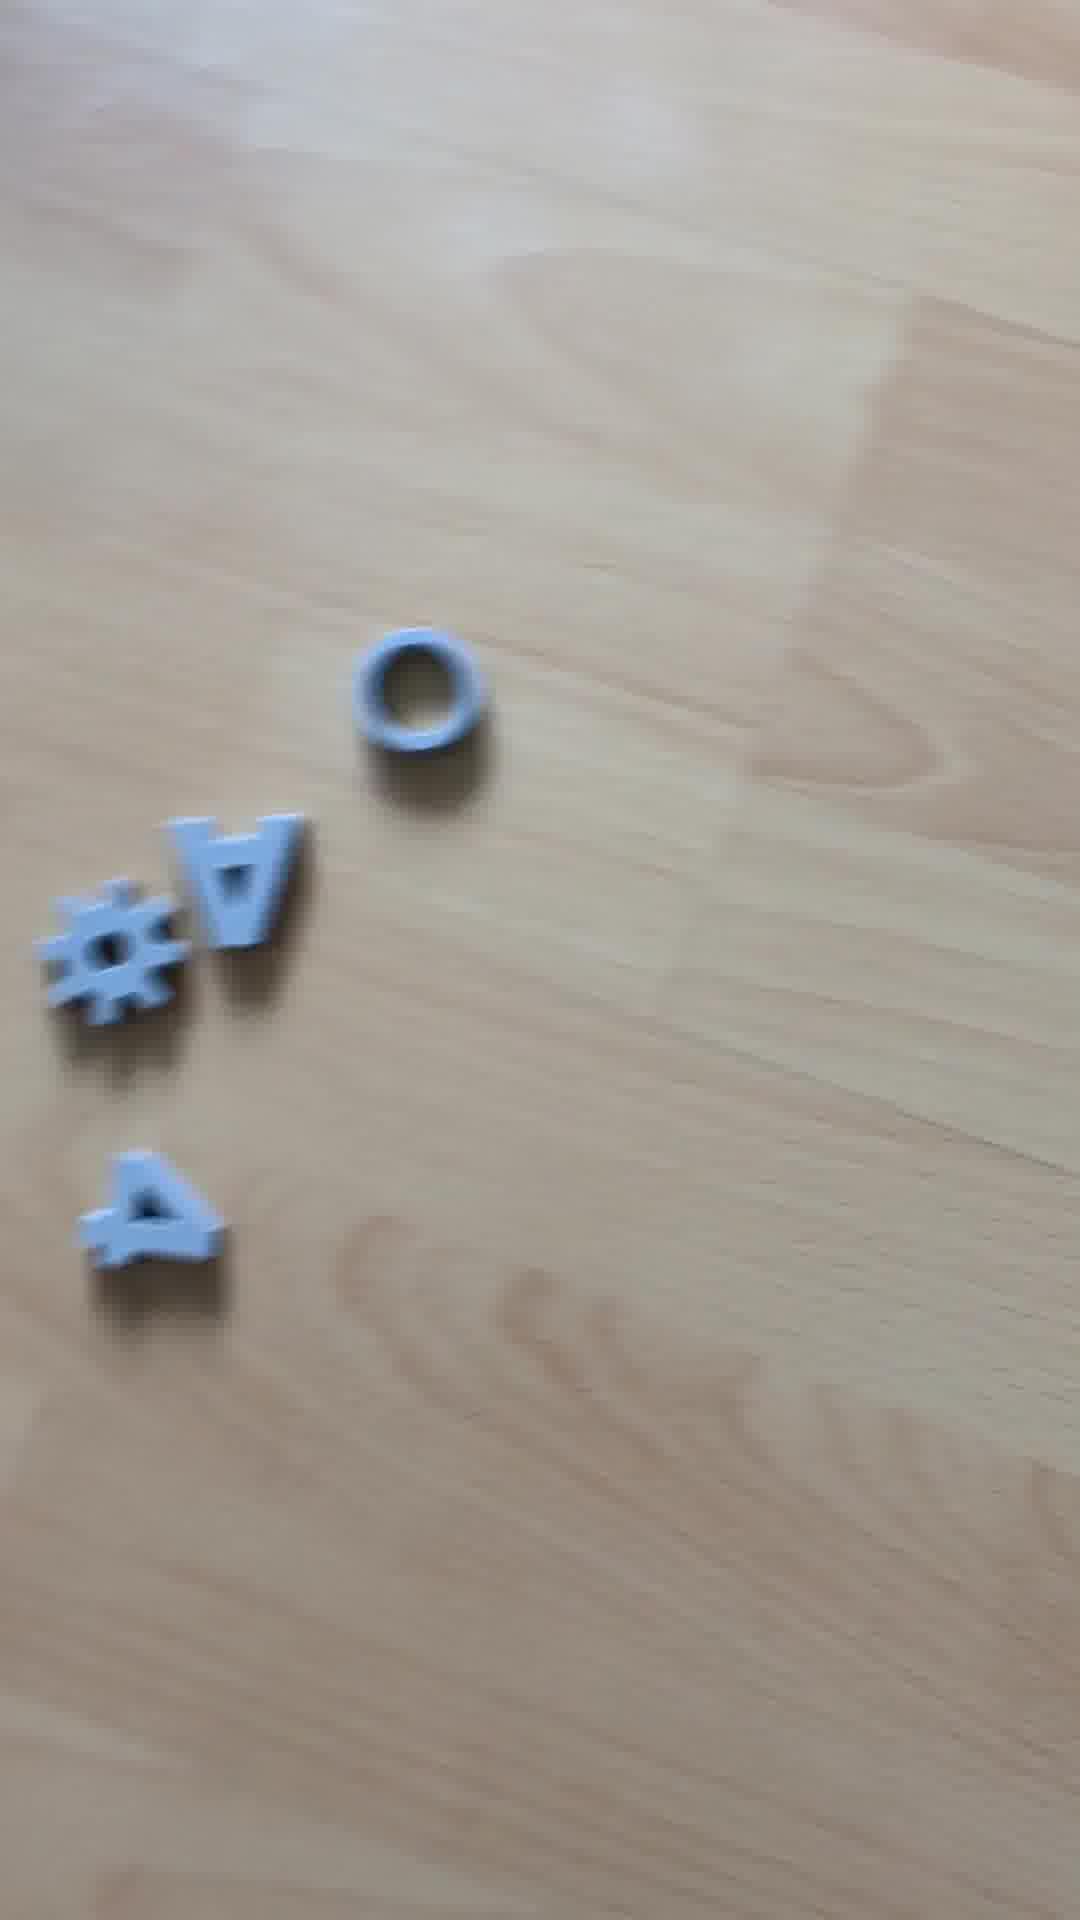Gray A-letter: (156, 800, 307, 959)
Gray four: (69, 1145, 235, 1284)
Gray gear: (40, 887, 186, 1029)
Gray ring: (353, 621, 479, 756)
